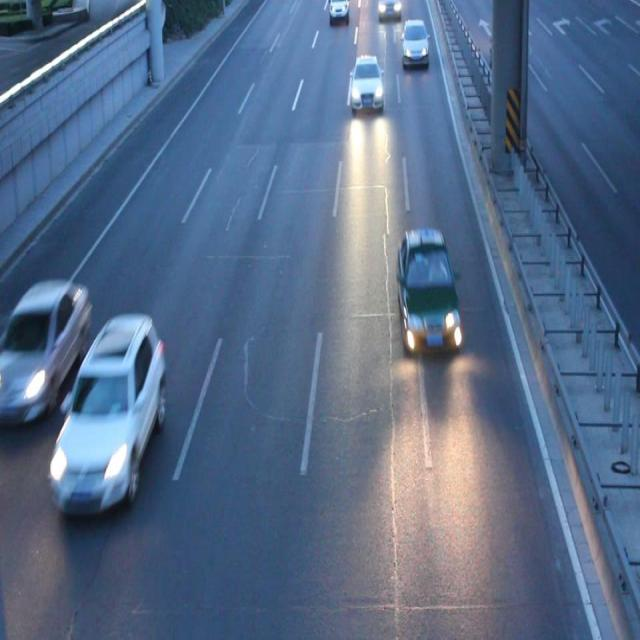car: (47, 315, 164, 516), (0, 277, 89, 432), (395, 228, 462, 354), (349, 54, 383, 111), (400, 20, 429, 66)
